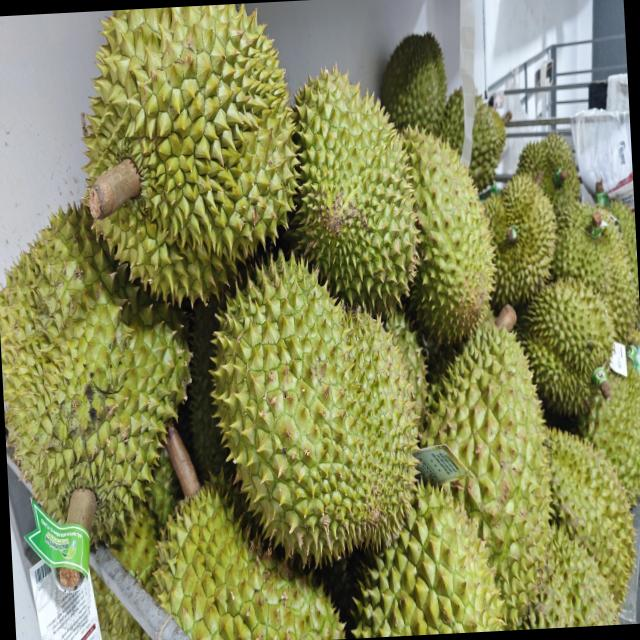Sau Rieng: (74, 1, 312, 317), (0, 219, 172, 537), (230, 242, 392, 570), (136, 459, 361, 640), (432, 312, 546, 611), (298, 64, 420, 320), (394, 122, 504, 354), (353, 480, 507, 638), (540, 434, 638, 618), (519, 274, 622, 424), (552, 205, 638, 336), (506, 538, 620, 630), (488, 168, 564, 303), (577, 349, 640, 511), (436, 90, 518, 192), (377, 30, 449, 141), (512, 137, 592, 217)
